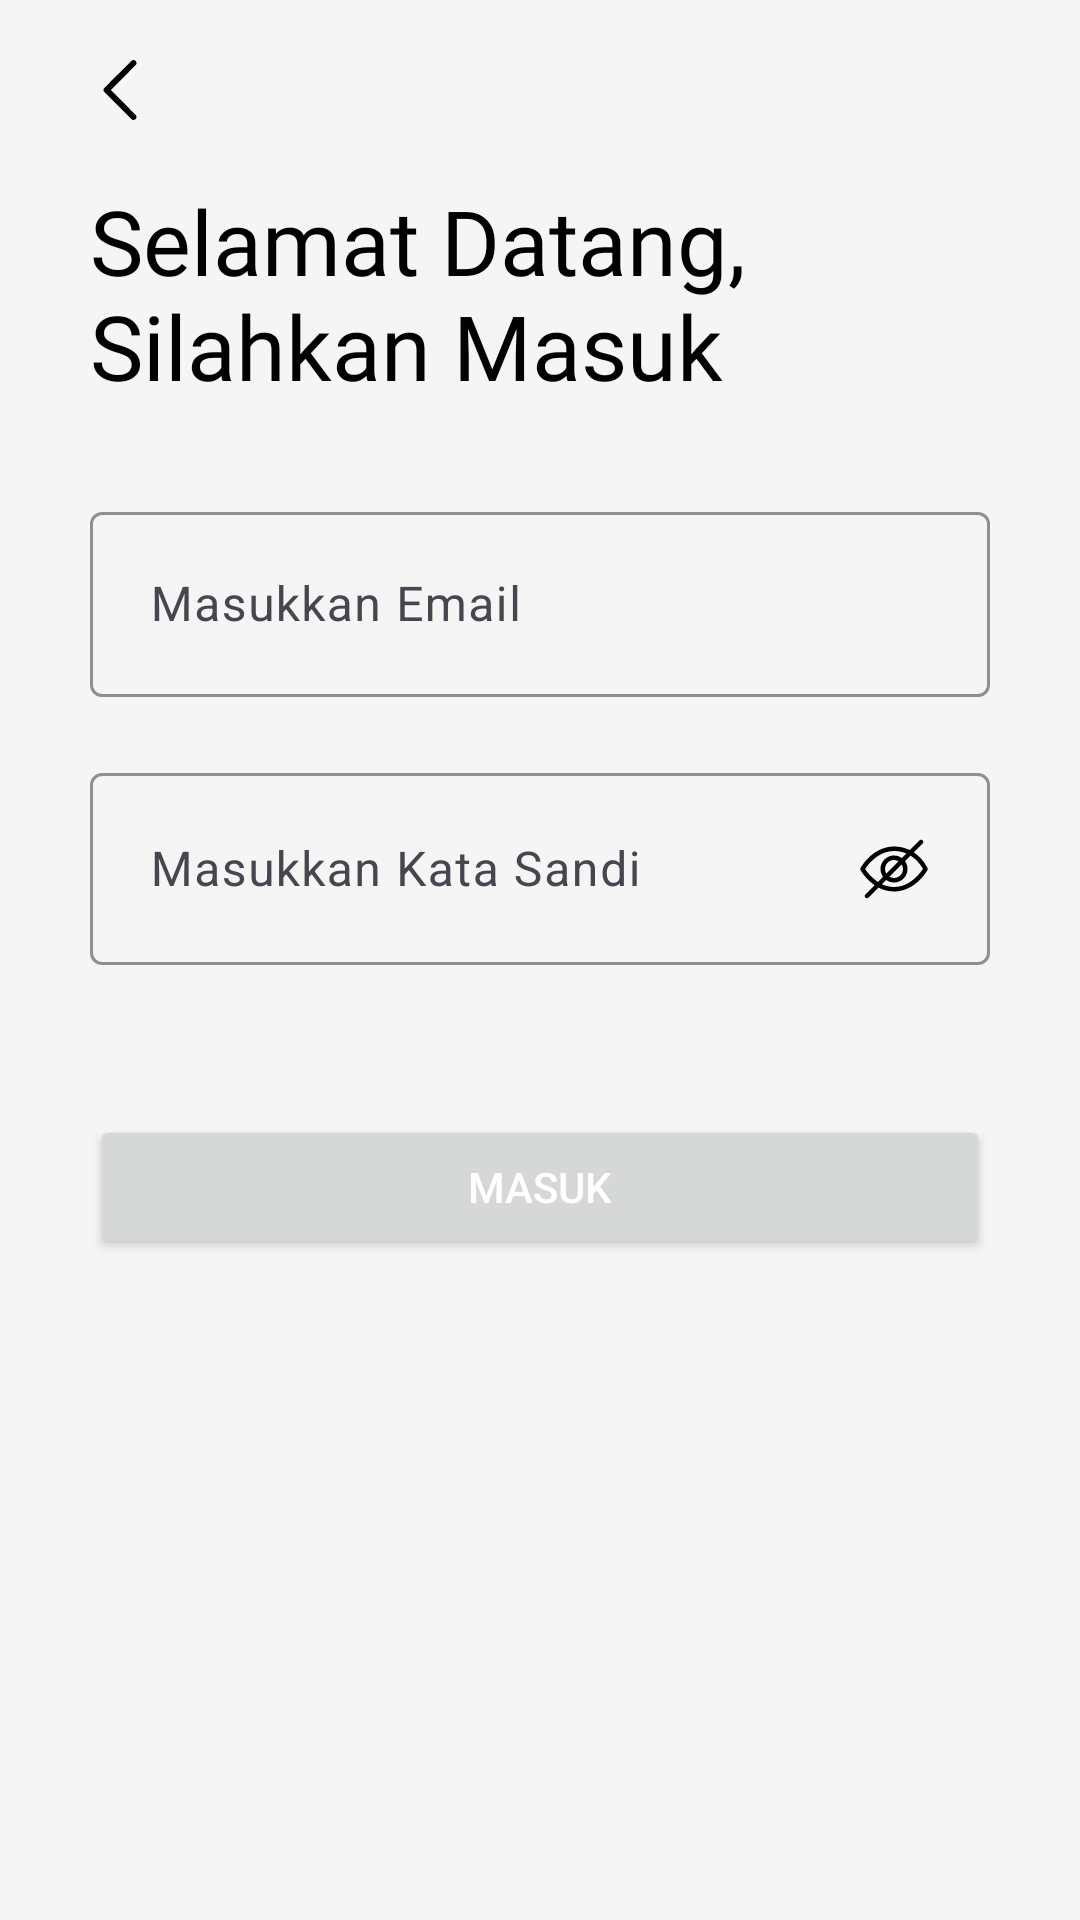

Icon click points for this 1080px×1920px phone screenshot, format point (x, y):
back: point (120, 90)
